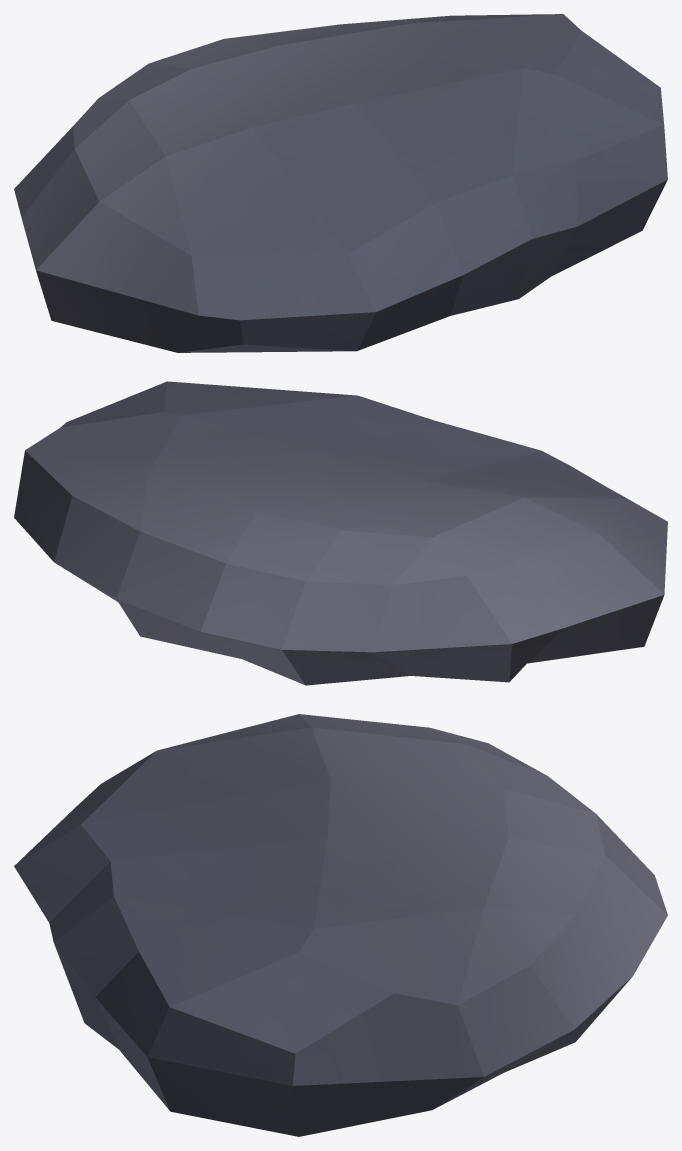
The model's file is F_Stone_Walk_4.fbx.
3 views of the same model, one above another, from view 1: azimuth 30°, elevation 25°; view 2: azimuth 150°, elevation 25°; view 3: azimuth 270°, elevation 25° (orthographic). The views are drawn at different scales.
Parts seen in each view (by area): view 1: F_Stone_Walk_4; view 2: F_Stone_Walk_4; view 3: F_Stone_Walk_4.
Part boxes in pixels (<box>): F_Stone_Walk_4: <box>14,14,667,352</box>; F_Stone_Walk_4: <box>14,381,667,685</box>; F_Stone_Walk_4: <box>14,714,667,1136</box>.
Size of the model in its own units: 1.85 by 0.4829 by 2.36.
Materials: 1 (1 with a texture image).
